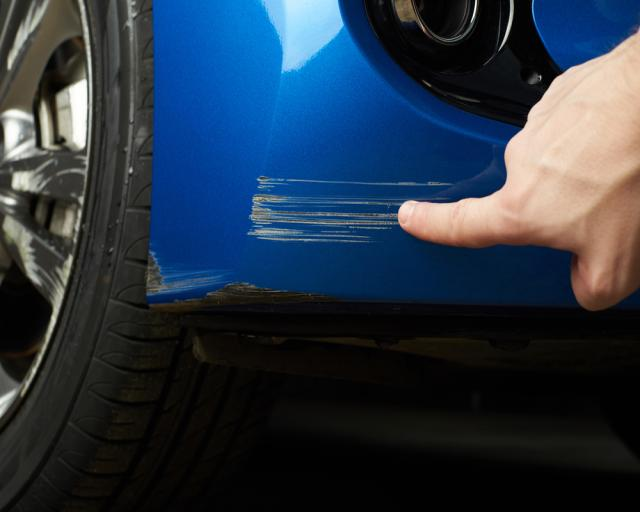scratch: (247, 173, 464, 247), (145, 246, 349, 311)
